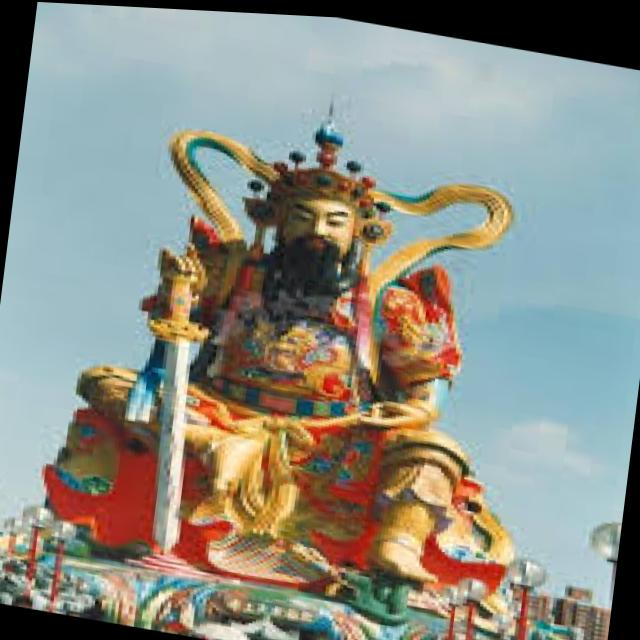Xuan wu: (120, 98, 501, 564)
